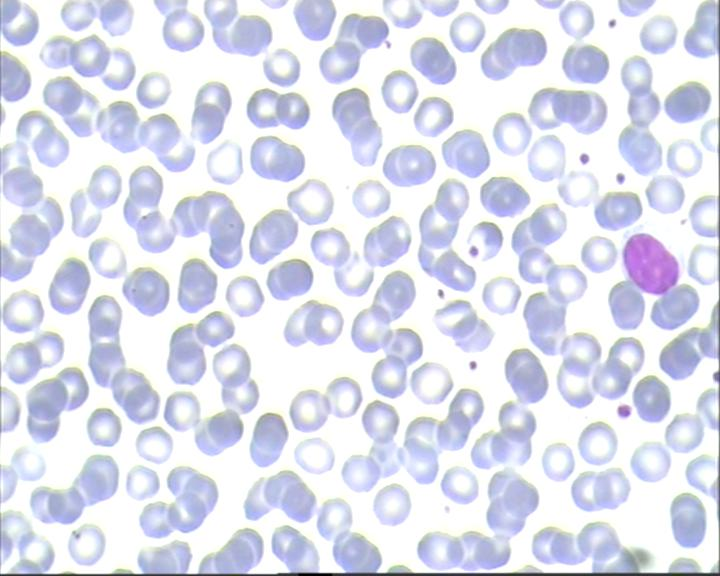lymp: (620, 220, 688, 300)
